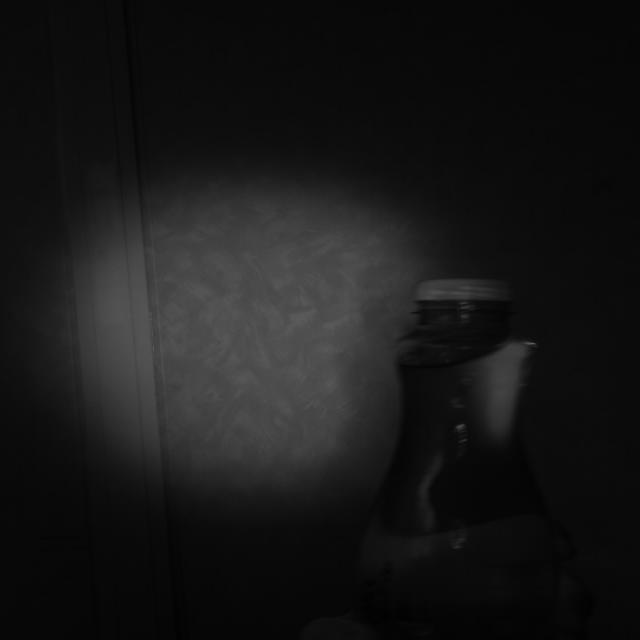Not Good: (409, 274, 520, 318)
